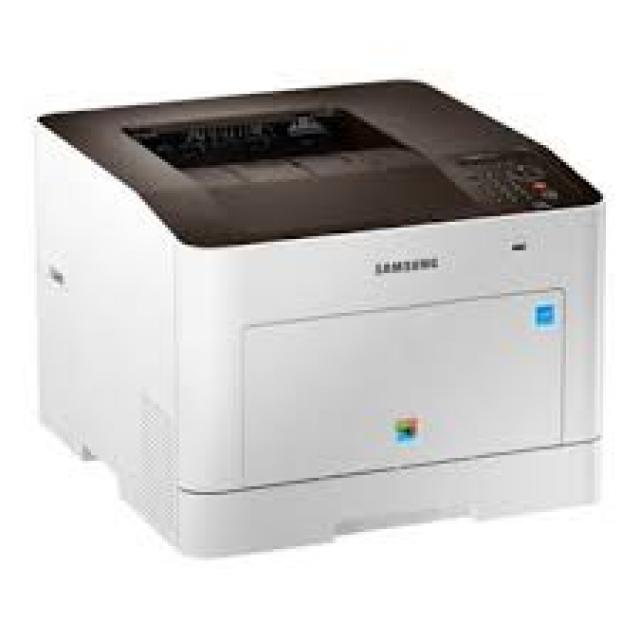printer: (24, 69, 622, 565)
